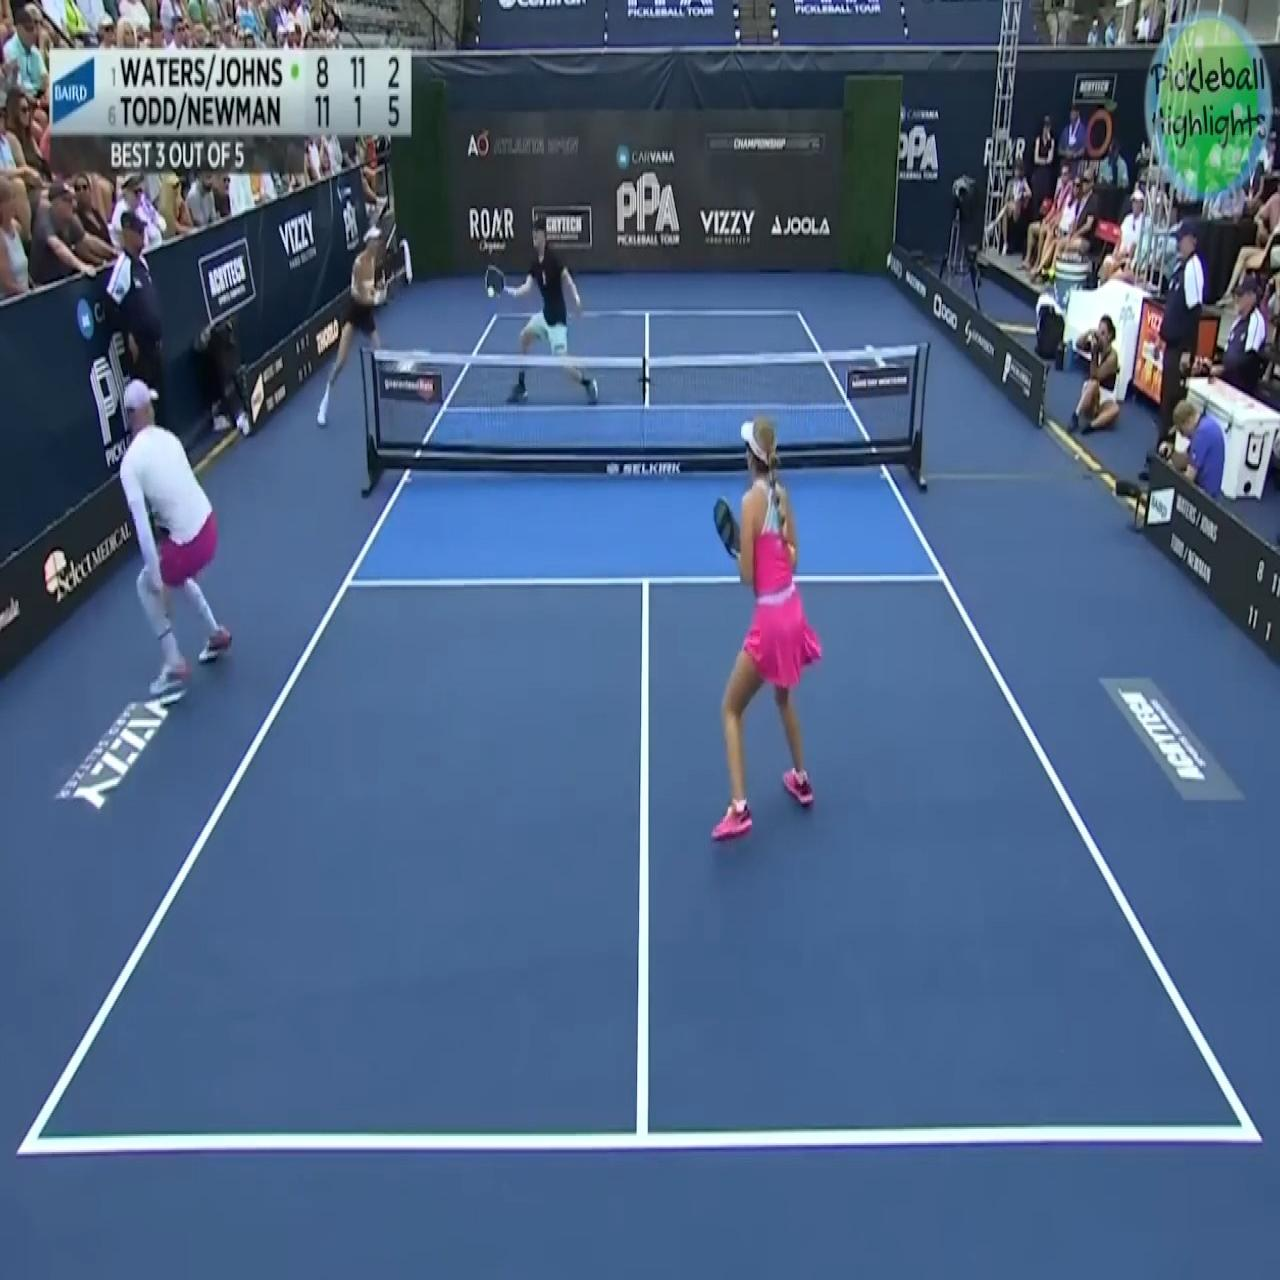Pickleball: (486, 282, 496, 302)
